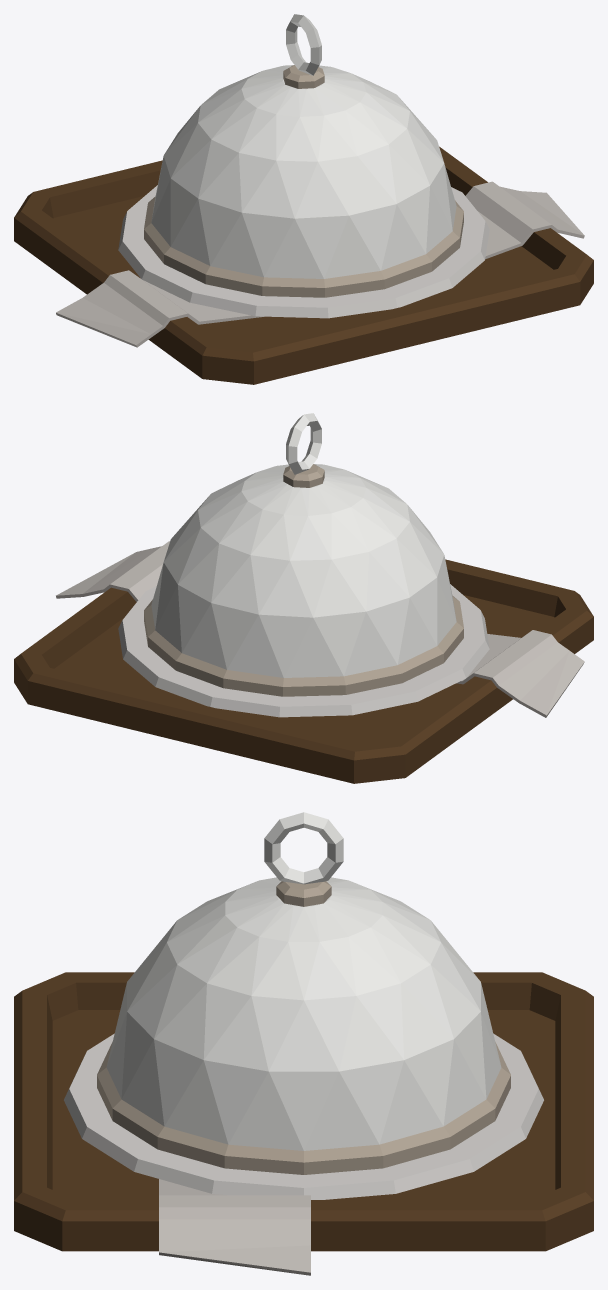
File: silver-cloche-platter-25dd3e.glb
The picture shows the model from 3 angles, top to bottom: view 1: azimuth 30°, elevation 25°; view 2: azimuth 150°, elevation 25°; view 3: azimuth 270°, elevation 25°; orthographic projection. The views are drawn at different scales.
Parts seen in each view (by area): view 1: cloche-shell, platter; view 2: cloche-shell, platter; view 3: cloche-shell, platter.
Boxes of the visible parts, box(x1,y1,x2,y2) form: cloche-shell: box(144, 14, 463, 297); platter: box(14, 146, 593, 384); cloche-shell: box(144, 413, 463, 696); platter: box(14, 541, 593, 783); cloche-shell: box(97, 812, 510, 1174); platter: box(14, 972, 593, 1275).
Bounding box in the file's own units: 0.5267 × 0.253 × 0.42.
